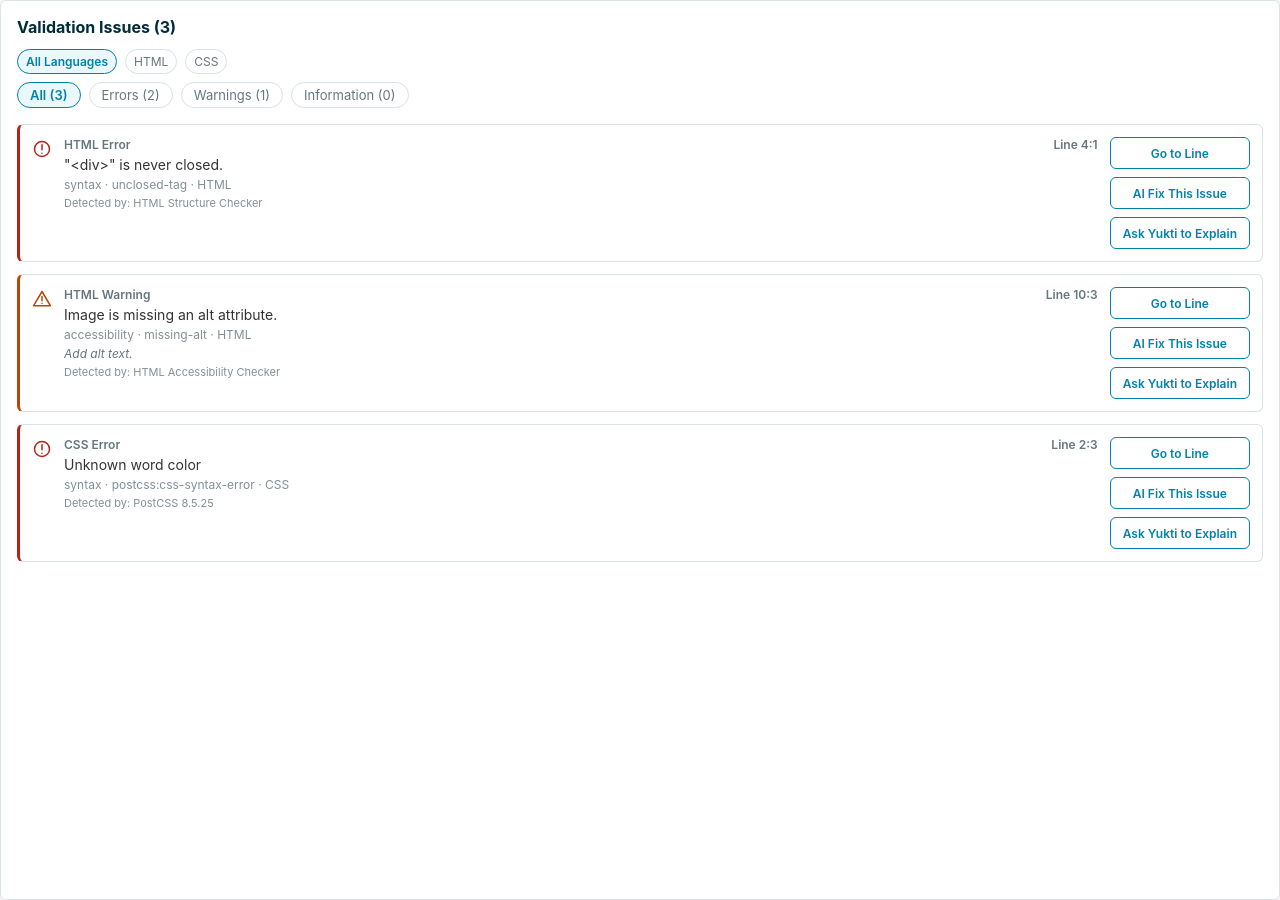
it: ValidationIssuesPanel › language filter › appears and filters when multiple languages are present
The width and height of the screenshot is (1280, 900).
Check: the element named "Filter issues by language" is shown, box [17, 49, 228, 74]
Click the tab "CSS" at (206, 62), box [185, 49, 228, 74]
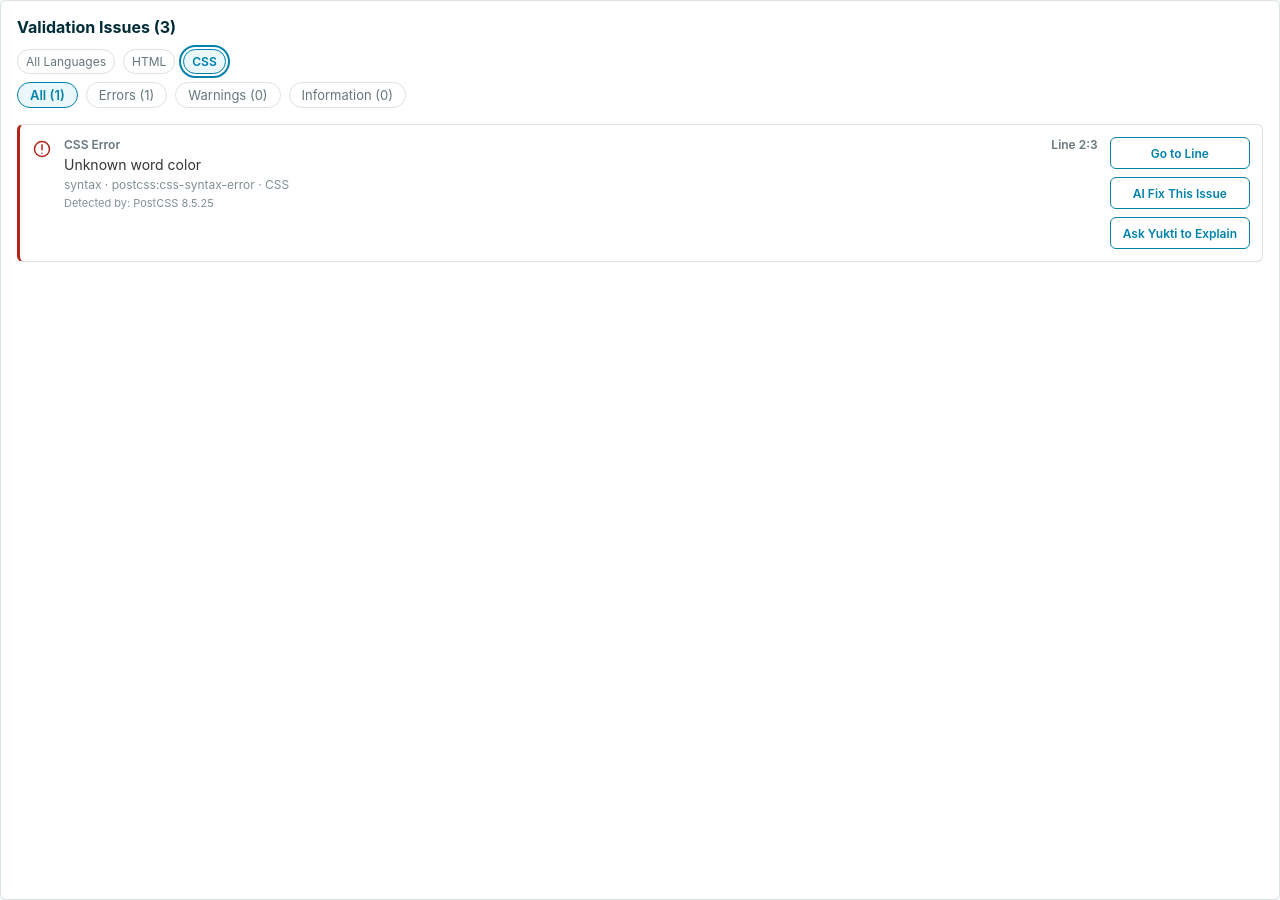
Check: the number of list items is 1, box [17, 124, 1263, 262]
Check: the tab "Errors (1)" is shown, box [86, 82, 167, 108]
Check: the tab "Warnings (0)" is shown, box [175, 82, 281, 108]
